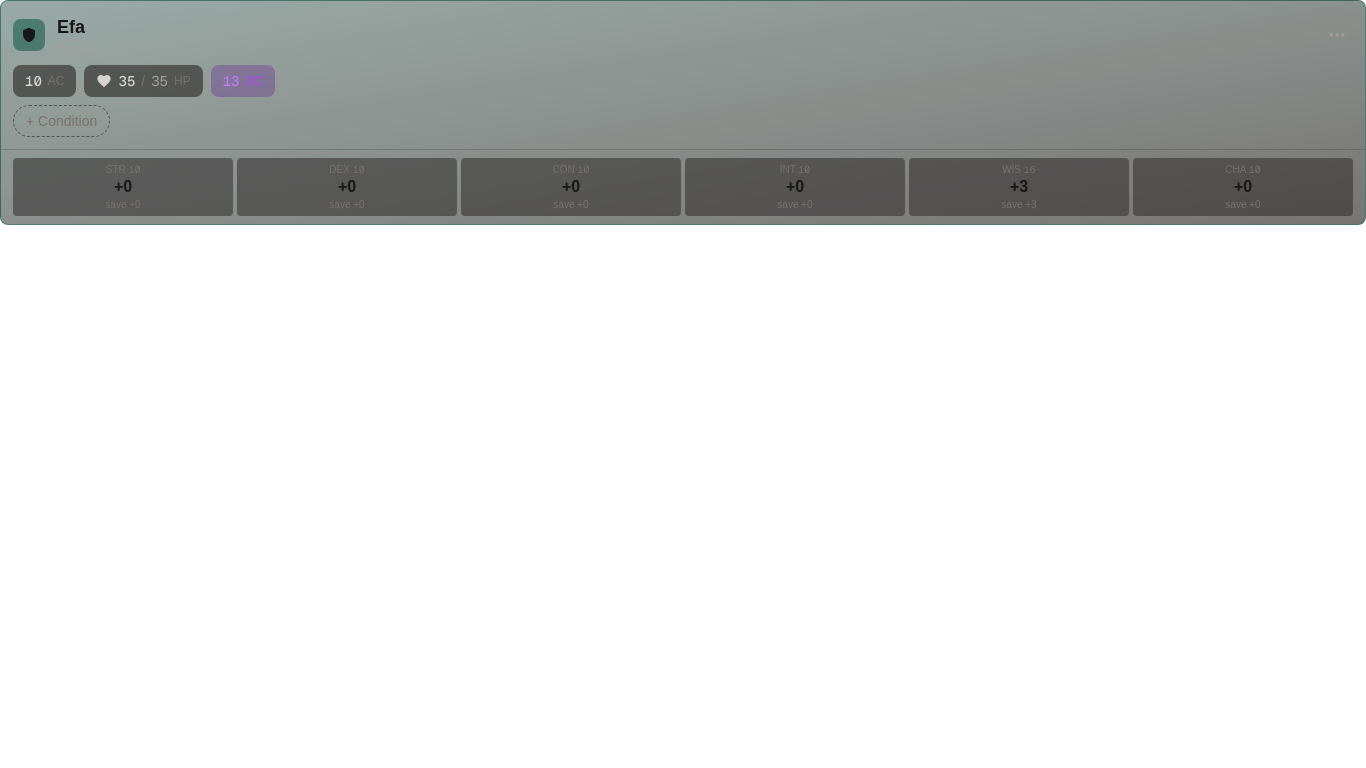
Test: party card ⋯ menu › a menu item opens its modal and closes the menu
Click the button named "More actions for Efa".
click(1337, 35)  # box [1321,19,1353,51]
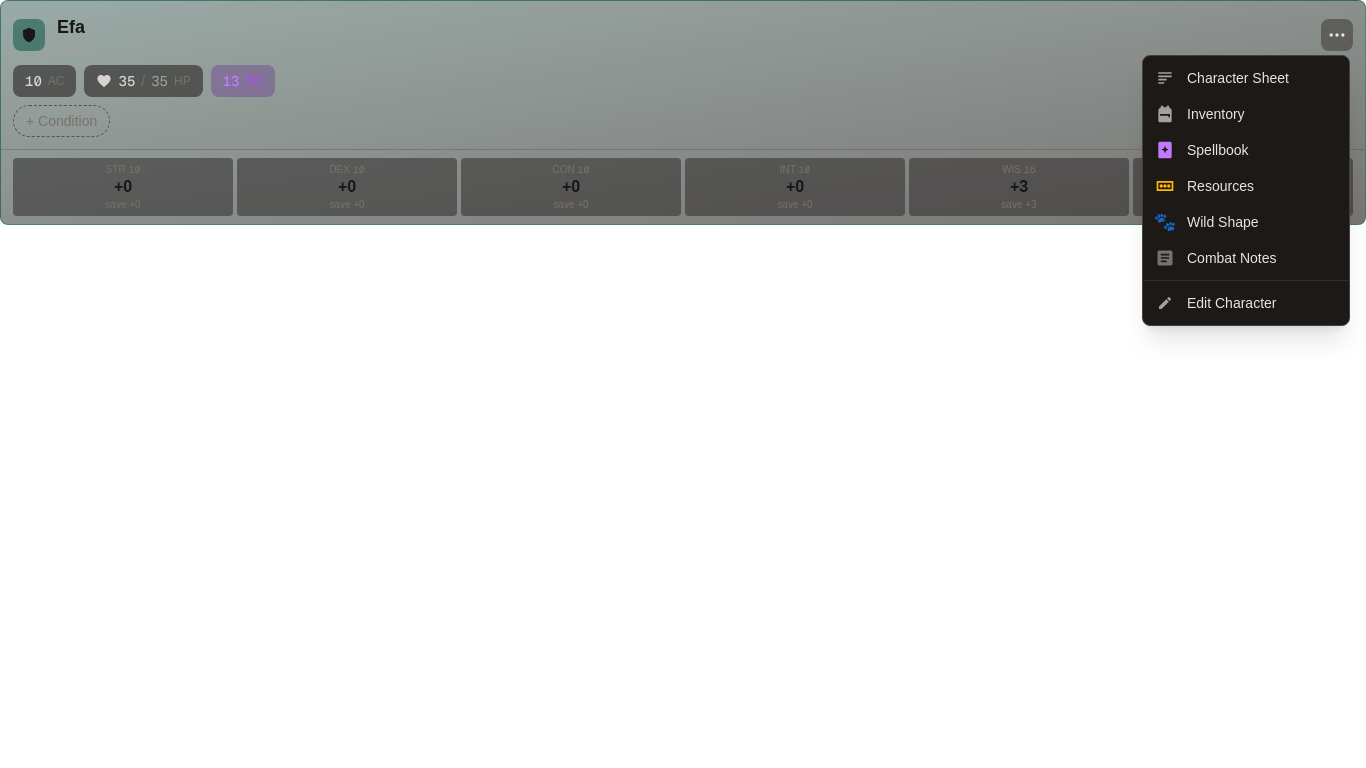
Click the menu item "Combat Notes".
click(1246, 258)  # box [1143,240,1349,276]
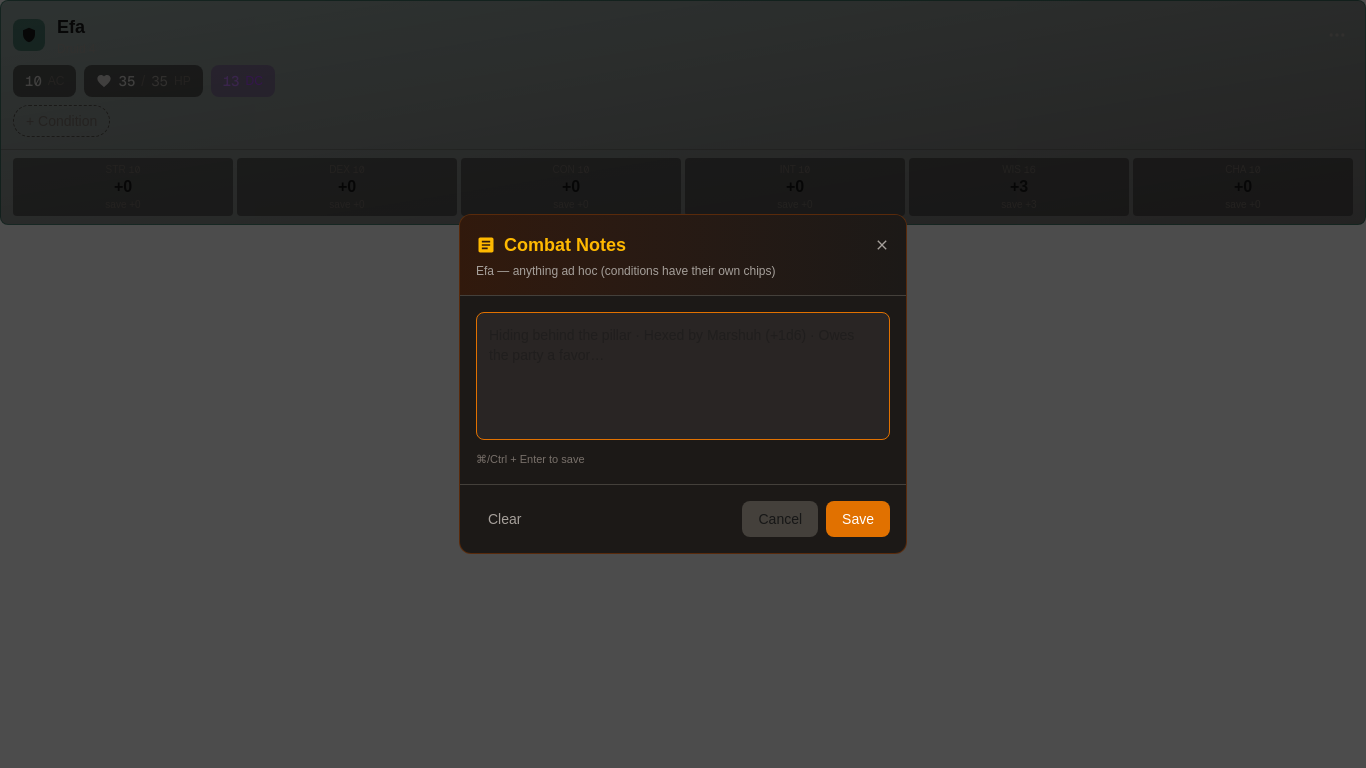
Now the menu is gone
Now the text box is shown, box [476,312,890,440]
